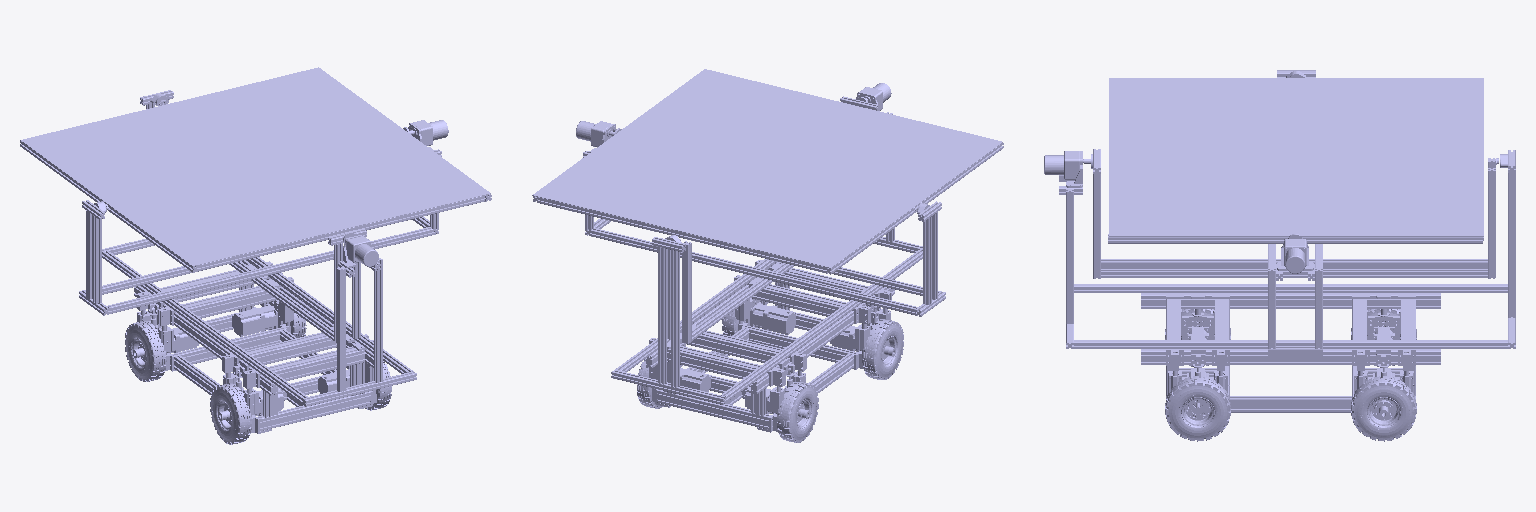
The robot description file, URDF, robot "Mobile_Leveling_Platform_V2":
<?xml version="1.0" encoding="utf-8"?>
<!-- This URDF was automatically created by SolidWorks to URDF Exporter! Originally created by [author] ([email redacted]) 
     Commit Version: 1.5.1-0-g916b5db  Build Version: 1.5.7152.31018
     For more information, please see http://wiki.ros.org/sw_urdf_exporter -->

<robot name="Mobile_Leveling_Platform_V2">

  <link
    name="base_link">
    <inertial>
      <origin
        xyz="1.2919E-06 -0.025389 1.4989"
        rpy="0 0 0" />
      <mass
        value="15.686" />
      <inertia
        ixx="0.048124"
        ixy="1.5141E-19"
        ixz="2.2275E-07"
        iyy="0.1289"
        iyz="-1.2904E-17"
        izz="0.10413" />
    </inertial>
    <visual>
      <origin
        xyz="0 0 0"
        rpy="0 0 0" />
      <geometry>
        <mesh
          filename="package://Mobile_Leveling_Platform_V2/meshes/base_link.STL" />
      </geometry>
      <material
        name="">
        <color
          rgba="0.82353 0.82353 1 1" />
      </material>
    </visual>
    <collision>
      <origin
        xyz="0 0 0"
        rpy="0 0 0" />
      <geometry>
        <mesh
          filename="package://Mobile_Leveling_Platform_V2/meshes/base_link.STL" />
      </geometry>
    </collision>
  </link>
  <link
    name="front_L_motor_rev_link">
    <inertial>
      <origin
        xyz="0.00043897 0.00010784 0.0089921"
        rpy="0 0 0" />
      <mass
        value="0.075717" />
      <inertia
        ixx="3.7606E-05"
        ixy="1.0136E-07"
        ixz="-5.7378E-07"
        iyy="3.7419E-05"
        iyz="-1.7765E-07"
        izz="3.9868E-05" />
    </inertial>
    <visual>
      <origin
        xyz="0 0 0"
        rpy="0 0 0" />
      <geometry>
        <mesh
          filename="package://Mobile_Leveling_Platform_V2/meshes/front_L_motor_rev_link.STL" />
      </geometry>
      <material
        name="">
        <color
          rgba="0.82353 0.82353 1 1" />
      </material>
    </visual>
    <collision>
      <origin
        xyz="0 0 0"
        rpy="0 0 0" />
      <geometry>
        <mesh
          filename="package://Mobile_Leveling_Platform_V2/meshes/front_L_motor_rev_link.STL" />
      </geometry>
    </collision>
  </link>
  <joint
    name="front_L_motor_rev_joint"
    type="continuous">
    <origin
      xyz="0.363 -1.8709 -0.041791"
      rpy="3.1416 -1.5708 0" />
    <parent
      link="base_link" />
    <child
      link="front_L_motor_rev_link" />
    <axis
      xyz="0 0 -1" />
  </joint>
  <link
    name="front_L_tire_link">
    <inertial>
      <origin
        xyz="-3.7896E-07 2.773E-06 2.1792E-08"
        rpy="0 0 0" />
      <mass
        value="2.9551" />
      <inertia
        ixx="0.029016"
        ixy="-3.4163E-07"
        ixz="-1.4575E-08"
        iyy="0.015583"
        iyz="-7.8838E-08"
        izz="0.015587" />
    </inertial>
    <visual>
      <origin
        xyz="0 0 0"
        rpy="0 0 0" />
      <geometry>
        <mesh
          filename="package://Mobile_Leveling_Platform_V2/meshes/front_L_tire_link.STL" />
      </geometry>
      <material
        name="">
        <color
          rgba="0.82353 0.82353 1 1" />
      </material>
    </visual>
    <collision>
      <origin
        xyz="0 0 0"
        rpy="0 0 0" />
      <geometry>
        <mesh
          filename="package://Mobile_Leveling_Platform_V2/meshes/front_L_tire_link.STL" />
      </geometry>
    </collision>
  </link>
  <joint
    name="front_L_tire_joint"
    type="fixed">
    <origin
      xyz="0 0 -0.011"
      rpy="0.13209 1.5708 0" />
    <parent
      link="front_L_motor_rev_link" />
    <child
      link="front_L_tire_link" />
    <axis
      xyz="0 0 0" />
  </joint>
  <link
    name="front_R_motor_link">
    <inertial>
      <origin
        xyz="0.00043897 0.00010784 0.0089921"
        rpy="0 0 0" />
      <mass
        value="0.075717" />
      <inertia
        ixx="3.7606E-05"
        ixy="1.0136E-07"
        ixz="-5.7378E-07"
        iyy="3.7419E-05"
        iyz="-1.7765E-07"
        izz="3.9868E-05" />
    </inertial>
    <visual>
      <origin
        xyz="0 0 0"
        rpy="0 0 0" />
      <geometry>
        <mesh
          filename="package://Mobile_Leveling_Platform_V2/meshes/front_R_motor_link.STL" />
      </geometry>
      <material
        name="">
        <color
          rgba="0.82353 0.82353 1 1" />
      </material>
    </visual>
    <collision>
      <origin
        xyz="0 0 0"
        rpy="0 0 0" />
      <geometry>
        <mesh
          filename="package://Mobile_Leveling_Platform_V2/meshes/front_R_motor_link.STL" />
      </geometry>
    </collision>
  </link>
  <joint
    name="front_R_motor_rev_joint"
    type="continuous">
    <origin
      xyz="-0.363 -1.8709 -0.041791"
      rpy="0 -1.5708 0" />
    <parent
      link="base_link" />
    <child
      link="front_R_motor_link" />
    <axis
      xyz="0 0 1" />
  </joint>
  <link
    name="front_R_tire_link">
    <inertial>
      <origin
        xyz="-3.786E-07 2.7731E-06 2.2371E-08"
        rpy="0 0 0" />
      <mass
        value="2.9551" />
      <inertia
        ixx="0.029016"
        ixy="-3.416E-07"
        ixz="-1.4569E-08"
        iyy="0.015583"
        iyz="-7.8811E-08"
        izz="0.015587" />
    </inertial>
    <visual>
      <origin
        xyz="0 0 0"
        rpy="0 0 0" />
      <geometry>
        <mesh
          filename="package://Mobile_Leveling_Platform_V2/meshes/front_R_tire_link.STL" />
      </geometry>
      <material
        name="">
        <color
          rgba="0.82353 0.82353 1 1" />
      </material>
    </visual>
    <collision>
      <origin
        xyz="0 0 0"
        rpy="0 0 0" />
      <geometry>
        <mesh
          filename="package://Mobile_Leveling_Platform_V2/meshes/front_R_tire_link.STL" />
      </geometry>
    </collision>
  </link>
  <joint
    name="front_R_tire_joint"
    type="fixed">
    <origin
      xyz="0 0 -0.011"
      rpy="0.14726 1.5708 0" />
    <parent
      link="front_R_motor_link" />
    <child
      link="front_R_tire_link" />
    <axis
      xyz="0 0 0" />
  </joint>
  <link
    name="rear_L_motor_rev_link">
    <inertial>
      <origin
        xyz="0.00043897 0.00010784 0.0089921"
        rpy="0 0 0" />
      <mass
        value="0.075717" />
      <inertia
        ixx="3.7606E-05"
        ixy="1.0136E-07"
        ixz="-5.7378E-07"
        iyy="3.7419E-05"
        iyz="-1.7765E-07"
        izz="3.9868E-05" />
    </inertial>
    <visual>
      <origin
        xyz="0 0 0"
        rpy="0 0 0" />
      <geometry>
        <mesh
          filename="package://Mobile_Leveling_Platform_V2/meshes/rear_L_motor_rev_link.STL" />
      </geometry>
      <material
        name="">
        <color
          rgba="0.82353 0.82353 1 1" />
      </material>
    </visual>
    <collision>
      <origin
        xyz="0 0 0"
        rpy="0 0 0" />
      <geometry>
        <mesh
          filename="package://Mobile_Leveling_Platform_V2/meshes/rear_L_motor_rev_link.STL" />
      </geometry>
    </collision>
  </link>
  <joint
    name="rear_L_motor_rev_joint"
    type="continuous">
    <origin
      xyz="0.363 -1.1269 -0.041791"
      rpy="3.1416 -1.5708 0" />
    <parent
      link="base_link" />
    <child
      link="rear_L_motor_rev_link" />
    <axis
      xyz="0 0 1" />
  </joint>
  <link
    name="rear_L_tire_link">
    <inertial>
      <origin
        xyz="-3.7891E-07 2.7734E-06 2.19E-08"
        rpy="0 0 0" />
      <mass
        value="2.9551" />
      <inertia
        ixx="0.029016"
        ixy="-3.4161E-07"
        ixz="-1.4568E-08"
        iyy="0.015583"
        iyz="-7.8816E-08"
        izz="0.015587" />
    </inertial>
    <visual>
      <origin
        xyz="0 0 0"
        rpy="0 0 0" />
      <geometry>
        <mesh
          filename="package://Mobile_Leveling_Platform_V2/meshes/rear_L_tire_link.STL" />
      </geometry>
      <material
        name="">
        <color
          rgba="0.82353 0.82353 1 1" />
      </material>
    </visual>
    <collision>
      <origin
        xyz="0 0 0"
        rpy="0 0 0" />
      <geometry>
        <mesh
          filename="package://Mobile_Leveling_Platform_V2/meshes/rear_L_tire_link.STL" />
      </geometry>
    </collision>
  </link>
  <joint
    name="rear_L_tire_joint"
    type="fixed">
    <origin
      xyz="0 0 -0.011"
      rpy="0.13537 -1.5708 0" />
    <parent
      link="rear_L_motor_rev_link" />
    <child
      link="rear_L_tire_link" />
    <axis
      xyz="0 0 0" />
  </joint>
  <link
    name="rear_R_motor_rev_link">
    <inertial>
      <origin
        xyz="0.00043897 0.00010784 0.0089921"
        rpy="0 0 0" />
      <mass
        value="0.075717" />
      <inertia
        ixx="3.7606E-05"
        ixy="1.0136E-07"
        ixz="-5.7378E-07"
        iyy="3.7419E-05"
        iyz="-1.7765E-07"
        izz="3.9868E-05" />
    </inertial>
    <visual>
      <origin
        xyz="0 0 0"
        rpy="0 0 0" />
      <geometry>
        <mesh
          filename="package://Mobile_Leveling_Platform_V2/meshes/rear_R_motor_rev_link.STL" />
      </geometry>
      <material
        name="">
        <color
          rgba="0.82353 0.82353 1 1" />
      </material>
    </visual>
    <collision>
      <origin
        xyz="0 0 0"
        rpy="0 0 0" />
      <geometry>
        <mesh
          filename="package://Mobile_Leveling_Platform_V2/meshes/rear_R_motor_rev_link.STL" />
      </geometry>
    </collision>
  </link>
  <joint
    name="rear_R_motor_rev_joint"
    type="continuous">
    <origin
      xyz="-0.363 -1.1269 -0.041791"
      rpy="0 -1.5708 0" />
    <parent
      link="base_link" />
    <child
      link="rear_R_motor_rev_link" />
    <axis
      xyz="0 0 -1" />
  </joint>
  <link
    name="rear_R_tire_link">
    <inertial>
      <origin
        xyz="-3.7891E-07 2.7731E-06 2.1853E-08"
        rpy="0 0 0" />
      <mass
        value="2.9551" />
      <inertia
        ixx="0.029016"
        ixy="-3.4163E-07"
        ixz="-1.4593E-08"
        iyy="0.015583"
        iyz="-7.8851E-08"
        izz="0.015587" />
    </inertial>
    <visual>
      <origin
        xyz="0 0 0"
        rpy="0 0 0" />
      <geometry>
        <mesh
          filename="package://Mobile_Leveling_Platform_V2/meshes/rear_R_tire_link.STL" />
      </geometry>
      <material
        name="">
        <color
          rgba="0.82353 0.82353 1 1" />
      </material>
    </visual>
    <collision>
      <origin
        xyz="0 0 0"
        rpy="0 0 0" />
      <geometry>
        <mesh
          filename="package://Mobile_Leveling_Platform_V2/meshes/rear_R_tire_link.STL" />
      </geometry>
    </collision>
  </link>
  <joint
    name="rear_R_tire_joint"
    type="fixed">
    <origin
      xyz="0 0 -0.011"
      rpy="0.1395 1.5708 0" />
    <parent
      link="rear_R_motor_rev_link" />
    <child
      link="rear_R_tire_link" />
    <axis
      xyz="0 0 0" />
  </joint>
  <link
    name="mating_link">
    <inertial>
      <origin
        xyz="0.28001 -0.884 -0.041642"
        rpy="0 0 0" />
      <mass
        value="14.754" />
      <inertia
        ixx="1.0335"
        ixy="-4.5514E-06"
        ixz="-1.0552E-18"
        iyy="0.15781"
        iyz="1.1729E-18"
        izz="1.1838" />
    </inertial>
    <visual>
      <origin
        xyz="0 0 0"
        rpy="0 0 0" />
      <geometry>
        <mesh
          filename="package://Mobile_Leveling_Platform_V2/meshes/mating_link.STL" />
      </geometry>
      <material
        name="">
        <color
          rgba="0.82353 0.82353 1 1" />
      </material>
    </visual>
    <collision>
      <origin
        xyz="0 0 0"
        rpy="0 0 0" />
      <geometry>
        <mesh
          filename="package://Mobile_Leveling_Platform_V2/meshes/mating_link.STL" />
      </geometry>
    </collision>
  </link>
  <joint
    name="mating_joint"
    type="fixed">
    <origin
      xyz="-0.28 -0.61489 0.20249"
      rpy="0 0 0" />
    <parent
      link="base_link" />
    <child
      link="mating_link" />
    <axis
      xyz="0 0 0" />
  </joint>
  <link
    name="front_leveling_link">
    <inertial>
      <origin
        xyz="-0.094 -0.0078388 0.49881"
        rpy="0 0 0" />
      <mass
        value="1.9876" />
      <inertia
        ixx="0.025468"
        ixy="3.1399E-20"
        ixz="-5.1038E-19"
        iyy="0.024479"
        iyz="-4.9544E-05"
        izz="0.0026287" />
    </inertial>
    <visual>
      <origin
        xyz="0 0 0"
        rpy="0 0 0" />
      <geometry>
        <mesh
          filename="package://Mobile_Leveling_Platform_V2/meshes/front_leveling_link.STL" />
      </geometry>
      <material
        name="">
        <color
          rgba="0.82353 0.82353 1 1" />
      </material>
    </visual>
    <collision>
      <origin
        xyz="0 0 0"
        rpy="0 0 0" />
      <geometry>
        <mesh
          filename="package://Mobile_Leveling_Platform_V2/meshes/front_leveling_link.STL" />
      </geometry>
    </collision>
  </link>
  <joint
    name="front_leveling_joint"
    type="fixed">
    <origin
      xyz="0.374 -1.768 0.015"
      rpy="0 0 0" />
    <parent
      link="mating_link" />
    <child
      link="front_leveling_link" />
    <axis
      xyz="0 0 0" />
  </joint>
  <link
    name="front_motor_rev_link">
    <inertial>
      <origin
        xyz="9.7145E-16 0.030907 2.2204E-16"
        rpy="0 0 0" />
      <mass
        value="0.025329" />
      <inertia
        ixx="6.8991E-06"
        ixy="-2.7437E-22"
        ixz="3.1069E-40"
        iyy="1.0461E-05"
        iyz="1.7456E-23"
        izz="6.8991E-06" />
    </inertial>
    <visual>
      <origin
        xyz="0 0 0"
        rpy="0 0 0" />
      <geometry>
        <mesh
          filename="package://Mobile_Leveling_Platform_V2/meshes/front_motor_rev_link.STL" />
      </geometry>
      <material
        name="">
        <color
          rgba="0.82353 0.82353 1 1" />
      </material>
    </visual>
    <collision>
      <origin
        xyz="0 0 0"
        rpy="0 0 0" />
      <geometry>
        <mesh
          filename="package://Mobile_Leveling_Platform_V2/meshes/front_motor_rev_link.STL" />
      </geometry>
    </collision>
  </link>

  <joint
    name="front_motor_rev_joint"
    type="revolute">

    <origin
      xyz="-0.094 0.055 0.67"
      rpy="3.1416 -0.17782 -3.1416" />
    <parent
      link="front_leveling_link" />
    <child
      link="front_motor_rev_link" />
    <axis
      xyz="0 1 0" />
    <limit
      lower="-0.5236"
      upper="0.5236"
      effort="1"
      velocity="1" />
  </joint>

  <link
    name="under_upper_link">
    <inertial>
      <origin
        xyz="0.1862 0.78081 -0.32342"
        rpy="0 0 0" />
      <mass
        value="8.5158" />
      <inertia
        ixx="0.46712"
        ixy="-2.4082E-19"
        ixz="4.9544E-05"
        iyy="0.53467"
        iyz="-3.1153E-19"
        izz="0.92485" />
    </inertial>
    <visual>
      <origin
        xyz="0 0 0"
        rpy="0 0 0" />
      <geometry>
        <mesh
          filename="package://Mobile_Leveling_Platform_V2/meshes/under_upper_link.STL" />
      </geometry>
      <material
        name="">
        <color
          rgba="0.82353 0.82353 1 1" />
      </material>
    </visual>
    <collision>
      <origin
        xyz="0 0 0"
        rpy="0 0 0" />
      <geometry>
        <mesh
          filename="package://Mobile_Leveling_Platform_V2/meshes/under_upper_link.STL" />
      </geometry>
    </collision>
  </link>
  <joint
    name="under_upper_joint"
    type="fixed">
    <origin
      xyz="0.087597 0.053 0.015743"
      rpy="-3.1416 0.17782 -3.1416" />
    <parent
      link="front_motor_rev_link" />
    <child
      link="under_upper_link" />
    <axis
      xyz="0 0 0" />
  </joint>
  <link
    name="upper_motor_rev_link">
    <inertial>
      <origin
        xyz="-2.2204E-16 0.030907 1.1102E-16"
        rpy="0 0 0" />
      <mass
        value="0.025329" />
      <inertia
        ixx="6.8991E-06"
        ixy="5.9833E-22"
        ixz="-5.5917E-22"
        iyy="1.0461E-05"
        iyz="1.757E-23"
        izz="6.8991E-06" />
    </inertial>
    <visual>
      <origin
        xyz="0 0 0"
        rpy="0 0 0" />
      <geometry>
        <mesh
          filename="package://Mobile_Leveling_Platform_V2/meshes/upper_motor_rev_link.STL" />
      </geometry>
      <material
        name="">
        <color
          rgba="0.82353 0.82353 1 1" />
      </material>
    </visual>
    <collision>
      <origin
        xyz="0 0 0"
        rpy="0 0 0" />
      <geometry>
        <mesh
          filename="package://Mobile_Leveling_Platform_V2/meshes/upper_motor_rev_link.STL" />
      </geometry>
    </collision>
  </link>
  <joint
    name="upper_motor_rev_joint"
    type="revolute">
    <origin
      xyz="0.877 0.79375 0"
      rpy="0 -0.0058456 1.5708" />
    <parent
      link="under_upper_link" />
    <child
      link="upper_motor_rev_link" />
    <axis
      xyz="0 1 0" />
    <limit
      lower="-0.5236"
      upper="0.5236"
      effort="1"
      velocity="1" />
  </joint>
  <link
    name="upper_link">
    <inertial>
      <origin
        xyz="-0.00040832 -0.00031982 -0.0067744"
        rpy="0 0 0" />
      <mass
        value="12.075" />
      <inertia
        ixx="1.566"
        ixy="-7.157E-20"
        ixz="-4.6083E-20"
        iyy="1.6523"
        iyz="1.6457E-19"
        izz="3.2174" />
    </inertial>
    <visual>
      <origin
        xyz="0 0 0"
        rpy="0 0 0" />
      <geometry>
        <mesh
          filename="package://Mobile_Leveling_Platform_V2/meshes/upper_link.STL" />
      </geometry>
      <material
        name="">
        <color
          rgba="0.82353 0.82353 1 1" />
      </material>
    </visual>
    <collision>
      <origin
        xyz="0 0 0"
        rpy="0 0 0" />
      <geometry>
        <mesh
          filename="package://Mobile_Leveling_Platform_V2/meshes/upper_link.STL" />
      </geometry>
    </collision>
  </link>
  <joint
    name="upper_joint"
    type="fixed">
    <origin
      xyz="0.0038376 0.788 0.014978"
      rpy="-0.0058456 0 -1.5708" />
    <parent
      link="upper_motor_rev_link" />
    <child
      link="upper_link" />
    <axis
      xyz="0 0 0" />
  </joint>
  <link
    name="rear_Leveling_link">
    <inertial>
      <origin
        xyz="0.03175 -0.0029488 0.39061"
        rpy="0 0 0" />
      <mass
        value="1.1026" />
      <inertia
        ixx="0.032266"
        ixy="1.2414E-20"
        ixz="4.614E-19"
        iyy="0.032486"
        iyz="-1.0871E-20"
        izz="0.0003903" />
    </inertial>
    <visual>
      <origin
        xyz="0 0 0"
        rpy="0 0 0" />
      <geometry>
        <mesh
          filename="package://Mobile_Leveling_Platform_V2/meshes/rear_Leveling_link.STL" />
      </geometry>
      <material
        name="">
        <color
          rgba="0.82353 0.82353 1 1" />
      </material>
    </visual>
    <collision>
      <origin
        xyz="0 0 0"
        rpy="0 0 0" />
      <geometry>
        <mesh
          filename="package://Mobile_Leveling_Platform_V2/meshes/rear_Leveling_link.STL" />
      </geometry>
    </collision>
  </link>
  <joint
    name="rear_Leveling_joint"
    type="fixed">
    <origin
      xyz="0.24825 0 0.015"
      rpy="0 0 0" />
    <parent
      link="mating_link" />
    <child
      link="rear_Leveling_link" />
    <axis
      xyz="0 0 0" />
  </joint>

</robot>

--- Render facts (derived) ---
3 views of the same robot in one strip: view 1: azimuth 30°, elevation 25°; view 2: azimuth 150°, elevation 25°; view 3: azimuth 270°, elevation 25° (orthographic).
Robot: Mobile_Leveling_Platform_V2 — 16 links, 15 joints (2 revolute, 4 continuous, 9 fixed); root link base_link; default pose: all joints at 0.
Links seen in each view (by area): view 1: upper_link, mating_link, under_upper_link, base_link, front_leveling_link, front_R_tire_link, rear_R_tire_link; view 2: upper_link, mating_link, under_upper_link, base_link, rear_Leveling_link, rear_R_tire_link, front_R_tire_link, front_leveling_link; view 3: upper_link, mating_link, under_upper_link, base_link, front_L_tire_link, rear_L_tire_link, front_leveling_link, rear_Leveling_link.
Boxes of the visible links, x1,y1,x2,y2 form: upper_link: (20,67,491,272); mating_link: (102,239,416,406); under_upper_link: (79,120,448,342); base_link: (137,263,376,433); front_leveling_link: (337,235,382,391); front_R_tire_link: (210,383,251,444); rear_R_tire_link: (125,321,166,381); upper_link: (532,69,1003,274); mating_link: (611,237,922,404); under_upper_link: (576,96,945,343); base_link: (649,261,890,432); rear_Leveling_link: (652,235,685,387); rear_R_tire_link: (777,382,818,442); front_R_tire_link: (862,319,903,379); front_leveling_link: (856,83,894,241); upper_link: (1108,78,1483,243); mating_link: (1066,284,1515,370); under_upper_link: (1093,70,1495,355); base_link: (1166,309,1415,416); front_L_tire_link: (1165,376,1230,441); rear_L_tire_link: (1351,376,1416,441); front_leveling_link: (1044,151,1083,323); rear_Leveling_link: (1496,150,1515,317).
Bounding box of the posed robot: 1.78 × 1.89 × 1.09 m (x, y, z).
Meshes: 16 distinct files referenced, 15 mesh visuals loaded (15 binary STL); not drawn: 1 (reference not matched to a file when rendering).